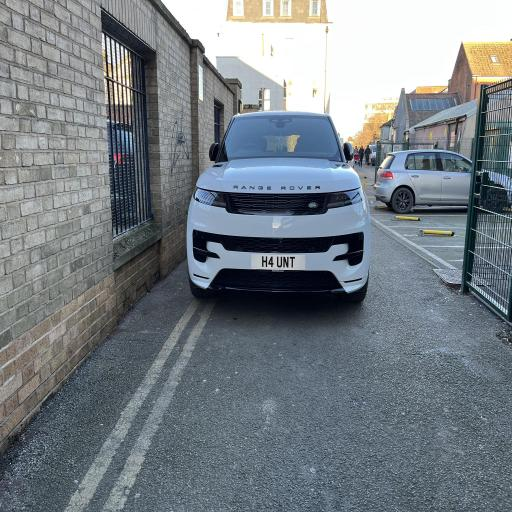numberplates: (252, 254, 305, 270)
